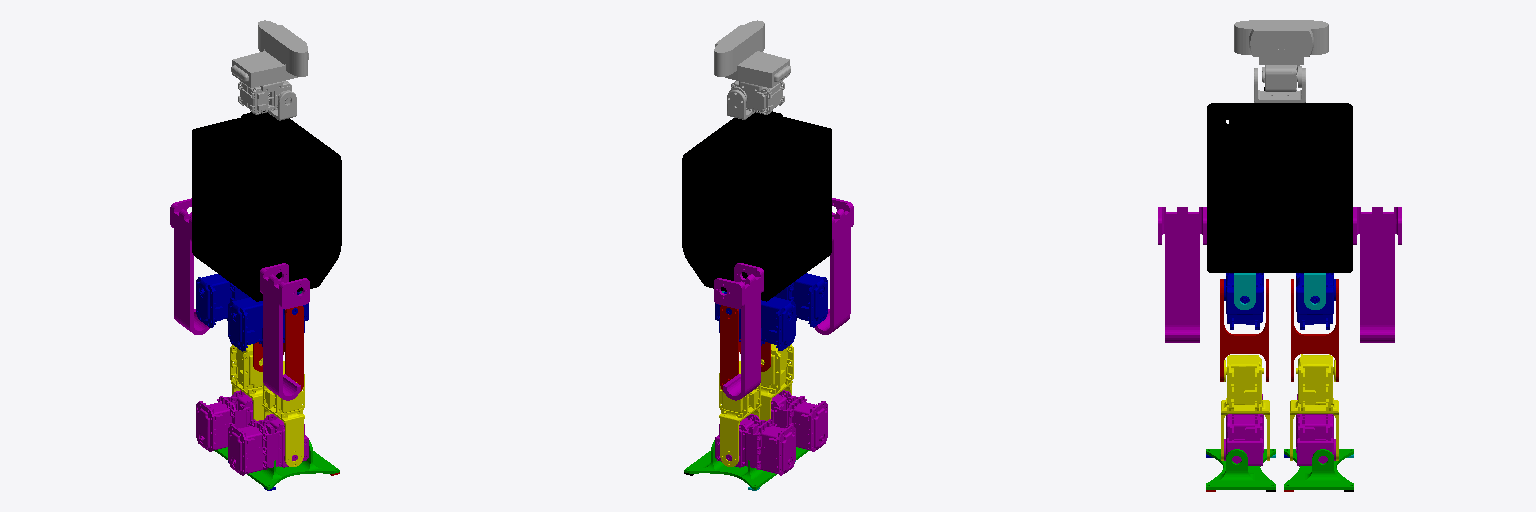
--- Facts derived from the render (not from the file) ---
The picture shows the robot from 3 angles, left to right: view 1: azimuth 30°, elevation 25°; view 2: azimuth 150°, elevation 25°; view 3: azimuth 270°, elevation 25°; orthographic projection.
Model soccerbot with 29 links and 28 joints (18 revolute, 10 fixed), rooted at /torso, posed every joint at zero.
Links seen in each view (by area): view 1: /torso, /head, /right_forearm, /right_ankle, /left_forearm, /left_ankle, /right_calve, /right_hip_front, /left_hip_front, /left_calve, /right_thigh, /right_foot; view 2: /torso, /head, /left_forearm, /left_ankle, /right_forearm, /right_ankle, /left_calve, /left_hip_front, /right_hip_front, /right_calve, /left_thigh, /left_foot (+1 smaller); view 3: /torso, /left_forearm, /right_forearm, /head, /left_calve, /right_calve, /left_foot, /right_foot, /left_ankle, /right_ankle, /right_thigh, /left_thigh (+5 smaller).
Boxes of the visible links, left/top/right/bottom form: /torso: left=192, top=111, right=341, bottom=301; /head: left=231, top=20, right=308, bottom=114; /right_forearm: left=260, top=263, right=309, bottom=400; /right_ankle: left=228, top=414, right=308, bottom=475; /left_forearm: left=170, top=198, right=209, bottom=334; /left_ankle: left=196, top=390, right=252, bottom=451; /right_calve: left=262, top=361, right=304, bottom=466; /right_hip_front: left=228, top=292, right=308, bottom=351; /left_hip_front: left=196, top=274, right=248, bottom=327; /left_calve: left=230, top=344, right=263, bottom=420; /right_thigh: left=283, top=306, right=303, bottom=391; /right_foot: left=247, top=440, right=339, bottom=489; /torso: left=682, top=111, right=831, bottom=301; /head: left=714, top=20, right=790, bottom=114; /left_forearm: left=714, top=263, right=763, bottom=400; /left_ankle: left=715, top=414, right=795, bottom=475; /right_forearm: left=814, top=198, right=853, bottom=334; /right_ankle: left=771, top=390, right=827, bottom=451; /left_calve: left=719, top=361, right=761, bottom=466; /left_hip_front: left=715, top=292, right=795, bottom=350; /right_hip_front: left=774, top=273, right=827, bottom=327; /right_calve: left=760, top=344, right=793, bottom=420; /left_thigh: left=720, top=305, right=740, bottom=391; /left_foot: left=684, top=440, right=776, bottom=489; /torso: left=1207, top=87, right=1352, bottom=272; /left_forearm: left=1353, top=207, right=1401, bottom=342; /right_forearm: left=1158, top=207, right=1206, bottom=342; /head: left=1234, top=20, right=1328, bottom=91; /left_calve: left=1290, top=354, right=1338, bottom=460; /right_calve: left=1221, top=355, right=1269, bottom=460; /left_foot: left=1284, top=449, right=1353, bottom=489; /right_foot: left=1206, top=449, right=1275, bottom=489; /left_ankle: left=1296, top=394, right=1335, bottom=465; /right_ankle: left=1224, top=394, right=1263, bottom=465; /right_thigh: left=1220, top=279, right=1268, bottom=381; /left_thigh: left=1291, top=279, right=1338, bottom=381.
Bounding box of the posed robot: 0.1143 × 0.243 × 0.5002 m (x, y, z).
17 mesh visuals loaded from 19 distinct referenced files (17 Collada DAE); not drawn: 2 (reference not matched to a file when rendering).

URDF robot description (soccerbot):
<?xml version="1.0" ?>
<!-- =================================================================================== -->
<!-- |    This document was autogenerated by xacro from models/soccerbot.xacro         | -->
<!-- |    EDITING THIS FILE BY HAND IS NOT RECOMMENDED                                 | -->
<!-- =================================================================================== -->
<robot name="soccerbot">
  <material name="white">
    <color rgba="1.0 1.0 1.0 1.0"/>
  </material>
  <material name="black">
    <color rgba="0.0 0.0 0.0 1.0"/>
  </material>
  <material name="silver">
    <color rgba="0.7 0.7 0.7 1.0"/>
  </material>
  <material name="yellow">
    <color rgba="0.9 0.9 0.0 1.0"/>
  </material>
  <material name="red">
    <color rgba="0.7 0.0 0.0 1.0"/>
  </material>
  <material name="green">
    <color rgba="0.0 0.7 0.0 1.0"/>
  </material>
  <material name="blue">
    <color rgba="0.0 0.0 0.7 1.0"/>
  </material>
  <material name="purple">
    <color rgba="0.7 0.0 0.7 1.0"/>
  </material>
  <material name="cyan">
    <color rgba="0.0 0.7 0.7 1.0"/>
  </material>
  <link name="/torso">
    <inertial>
      <mass value="1.529"/>
      <origin rpy="0 0 0" xyz="0.0082498 -0.0017440 -0.0522479"/>
      <inertia ixx="4.323e-3" ixy="5.549e-6" ixz="3.960e-5" iyy="5.198e-3" iyz="-1.509e-5" izz="3.567e-3"/>
    </inertial>
    <collision name="collision">
      <origin rpy="0 0 0" xyz="0 0 0"/>
      <geometry>
        <mesh filename="../meshes/torso.dae" scale="1 1 1"/>
      </geometry>
    </collision>
    <visual name="visual">
      <origin rpy="0 0 0" xyz="0 0 0"/>
      <geometry>
        <mesh filename="../meshes/torso.dae" scale="1 1 1"/>
      </geometry>
      <material name="black"/>
    </visual>
  </link>
  <link name="/left_bicep">
    <inertial>
      <mass value="0.213e-3"/>
      <origin rpy="0  0  0" xyz="0.000 0.02579 -0.04955"/>
      <inertia ixx="2.824e-4" ixy="0.000" ixz="0.0" iyy="2.744e-4" iyz="1.165e-05" izz="2.433e-5"/>
    </inertial>
    <collision name="collision">
      <origin rpy="0  0  0" xyz="0 0.0025 0"/>
      <geometry>
        <mesh filename="../meshes/left_bicep.dae" scale="1 1 1"/>
      </geometry>
    </collision>
    <visual name="visual">
      <origin rpy="0  0  0" xyz="0  0  0"/>
      <geometry>
        <mesh filename="../meshes/left_bicep.dae" scale="1 1 1"/>
      </geometry>
      <material name="white"/>
    </visual>
  </link>
  <link name="/left_forearm">
    <inertial>
      <mass value="45.7e-3"/>
      <origin rpy="0  0  0" xyz="0 0.0245 -0.0546097"/>
      <inertia ixx="0.113e-3" ixy="0.000" ixz="1e-06" iyy="0.107e-3" iyz="0.0" izz="0.012e-3"/>
    </inertial>
    <collision name="collision">
      <origin rpy="0  0  0" xyz="-0.0055 0.005 0"/>
      <geometry>
        <mesh filename="../meshes/left_forearm.dae" scale="1 1 1"/>
      </geometry>
    </collision>
    <visual name="visual">
      <origin rpy="0  0  0" xyz="0  0  0"/>
      <geometry>
        <mesh filename="../meshes/left_forearm.dae" scale="1 1 1"/>
      </geometry>
      <material name="purple"/>
    </visual>
  </link>
  <joint name="left_arm_motor_0" type="revolute">
    <parent link="/torso"/>
    <child link="/left_bicep"/>
    <origin rpy="0 0 0" xyz="-0.0157 0.0725 0"/>
    <axis xyz="0 -1 0"/>
    <dynamics damping="0.01" friction="0.1"/>
    <limit effort="1.5" lower="-1.5707963267948966" upper="3.9269908169872414" velocity="1"/>
  </joint>
  <joint name="left_arm_motor_1" type="revolute">
    <parent link="/left_bicep"/>
    <child link="/left_forearm"/>
    <origin rpy="0 0 0" xyz="0 0 -0.10"/>
    <axis xyz="0 -1 0"/>
    <dynamics damping="0.01" friction="0.1"/>
    <limit effort="1.5" lower="0" upper="3.141592653589793" velocity="1"/>
  </joint>
  <link name="/right_bicep">
    <inertial>
      <mass value="0.213e-3"/>
      <origin rpy="0  0  0" xyz="0.000 -0.02579 -0.04955"/>
      <inertia ixx="2.824e-4" ixy="0.000" ixz="-0.0" iyy="2.744e-4" iyz="-1.165e-05" izz="2.433e-5"/>
    </inertial>
    <collision name="collision">
      <origin rpy="0  0  0" xyz="0 -0.0025 0"/>
      <geometry>
        <mesh filename="../meshes/right_bicep.dae" scale="1 1 1"/>
      </geometry>
    </collision>
    <visual name="visual">
      <origin rpy="0  0  0" xyz="0  0  0"/>
      <geometry>
        <mesh filename="../meshes/right_bicep.dae" scale="1 1 1"/>
      </geometry>
      <material name="white"/>
    </visual>
  </link>
  <link name="/right_forearm">
    <inertial>
      <mass value="45.7e-3"/>
      <origin rpy="0  0  0" xyz="0 -0.0245 -0.0546097"/>
      <inertia ixx="0.113e-3" ixy="0.000" ixz="-1e-06" iyy="0.107e-3" iyz="-0.0" izz="0.012e-3"/>
    </inertial>
    <collision name="collision">
      <origin rpy="0  0  0" xyz="-0.0055 -0.005 0"/>
      <geometry>
        <mesh filename="../meshes/right_forearm.dae" scale="1 1 1"/>
      </geometry>
    </collision>
    <visual name="visual">
      <origin rpy="0  0  0" xyz="0  0  0"/>
      <geometry>
        <mesh filename="../meshes/right_forearm.dae" scale="1 1 1"/>
      </geometry>
      <material name="purple"/>
    </visual>
  </link>
  <joint name="right_arm_motor_0" type="revolute">
    <parent link="/torso"/>
    <child link="/right_bicep"/>
    <origin rpy="0 0 0" xyz="-0.0157 -0.0725 0"/>
    <axis xyz="0 -1 0"/>
    <dynamics damping="0.01" friction="0.1"/>
    <limit effort="1.5" lower="-1.5707963267948966" upper="3.9269908169872414" velocity="1"/>
  </joint>
  <joint name="right_arm_motor_1" type="revolute">
    <parent link="/right_bicep"/>
    <child link="/right_forearm"/>
    <origin rpy="0 0 0" xyz="0 0 -0.10"/>
    <axis xyz="0 -1 0"/>
    <dynamics damping="0.01" friction="0.1"/>
    <limit effort="1.5" lower="0" upper="3.141592653589793" velocity="1"/>
  </joint>
  <link name="/left_hip_side">
    <inertial>
      <mass value="9.364e-3"/>
      <origin rpy="0  0  0" xyz="0.0003695 0.0000 0.01689"/>
      <inertia ixx="0.002e-3" ixy="0.000" ixz="0.000" iyy="0.005e-3" iyz="0.000" izz="0.004e-3"/>
    </inertial>
    <collision name="collision">
      <origin rpy="0  0  0" xyz="0 0.0 0.03"/>
        <geometry>
            <box size="0.0485 0.022 0.00005"/>
        </geometry>
    </collision>
    <visual name="visual">
      <origin rpy="0  0  0" xyz="0  0  0"/>
      <geometry>
        <mesh filename="../meshes/left_hip_side.dae" scale="1 1 1"/>
      </geometry>
      <material name="cyan"/>
    </visual>
  </link>
  <link name="/left_hip_front">
    <inertial>
      <mass value="153.186e-3"/>
      <origin rpy="0 0 0" xyz="-0.02093 0 -0.011313"/>
      <inertia ixx="0.041e-3" ixy="0.000" ixz="-0.002e-3" iyy="0.118e-3" iyz="0.000" izz="0.106e-3"/>
    </inertial>
    <collision name="collision">
      <origin rpy="0 0 0" xyz="-0.02187 0.0 -0.01332"/>
      <geometry>
        <box size="0.083747 0.04885 0.0506"/>
      </geometry>
    </collision>
    <visual name="visual">
      <origin rpy="0  0  0" xyz="0  0  0"/>
      <geometry>
        <mesh filename="../meshes/left_hip_front.dae" scale="1 1 1"/>
      </geometry>
      <material name="blue"/>
    </visual>
  </link>
  <link name="/left_thigh">
    <inertial>
      <mass value="21.438e-3"/>
      <origin rpy="0 0 0" xyz="0.0019422 0.0001419 -0.0469409"/>
      <inertia ixx="0.025e-3" ixy="2e-06" ixz="0.000" iyy="0.016e-3" iyz="0.000" izz="0.010e-3"/>
    </inertial>
    <collision name="collision">
      <origin rpy="0 0 0" xyz="0 0 -0.0445"/>
      <geometry>
        <box size="0.022 0.048 0.111"/>
      </geometry>
    </collision>
    <visual name="visual">
      <origin rpy="0  0  0" xyz="0  0  0"/>
      <geometry>
        <mesh filename="../meshes/left_thigh.dae" scale="1 1 1"/>
      </geometry>
      <material name="red"/>
    </visual>
  </link>
  <link name="/left_calve">
    <inertial>
      <mass value="86.547e-3"/>
      <origin rpy="0  0  0" xyz="0 -3.259e-07 -0.0150123e-3"/>
      <inertia ixx="0.054e-3" ixy="0.000" ixz="0.000" iyy="0.046e-3" iyz="-0.001e-3" izz="0.019e-3"/>
    </inertial>
    <collision name="collision">
      <origin rpy="0 0 0" xyz="0 0 -0.03385"/>
      <geometry>
        <box size="0.031883 0.048 0.105683"/>
      </geometry>
    </collision>
    <visual name="visual">
      <origin rpy="0 0 0" xyz="0 0 -0.0865"/>
      <geometry>
        <mesh filename="../meshes/left_calve.dae" scale="1 1 1"/>
      </geometry>
      <material name="yellow"/>
    </visual>
  </link>
  <link name="/left_ankle">
    <inertial>
      <mass value="153.186e-3"/>
      <origin rpy="0 0 0" xyz="-0.020939e-3 0.000 0.011313e-3"/>
      <inertia ixx="0.041e-3" ixy="0.000" ixz="0.002e-3" iyy="0.118e-3" iyz="0.000" izz="0.106e-3"/>
    </inertial>
    <collision name="collision">
      <origin rpy="0 0 0" xyz="-0.02014 0.0 0.01031"/>
      <geometry>
        <box size="0.090769 0.042 0.0506"/>
      </geometry>
    </collision>
    <visual name="visual">
      <origin rpy="0 0 0" xyz="0  0  0"/>
      <geometry>
        <mesh filename="../meshes/left_ankle.dae" scale="1 1 1"/>
      </geometry>
      <material name="purple"/>
    </visual>
  </link>
  <link name="/left_foot">
    <inertial>
      <mass value="23.216e-3"/>
      <origin rpy="0 0 0" xyz="-0.020939 0.0 0.011313"/>
      <inertia ixx="0.006e-3" ixy="0.000" ixz="0.000" iyy="0.018e-3" iyz="0.000" izz="0.022e-3"/>
    </inertial>
    <collision name="collision">
      <origin rpy="0 0 0" xyz="0.00225 0.00401 -0.0205 "/>
      <geometry>
        <box size="0.09 0.07 0.003"/>
      </geometry>
      <contact_coefficients mu="100.0"/>
    </collision>
    <visual name="visual">
      <origin rpy="0  0  0" xyz="0  0.00802  0"/>
      <geometry>
        <mesh filename="../meshes/left_foot.dae" scale="1 1 1"/>
      </geometry>
      <material name="green"/>
    </visual>
  </link>
  <link name="/left_foot_cleat_4">
    <inertial>
      <mass value="5e-3"/>
      <origin rpy="0 0 0" xyz="-0.020939 0.0 0.011313"/>
      <inertia ixx="0" ixy="0.000" ixz="0.000" iyy="0" iyz="0.000" izz="0"/>
    </inertial>
    <collision name="collision">
      <origin rpy="0 0 0" xyz="0.04225 0.034 -0.023"/>
      <geometry>
        <box size="0.01 0.01 0.002"/>
      </geometry>
      <contact_coefficients mu="100.0"/>
    </collision>
    <visual name="visual">
      <origin rpy="0 0 0" xyz="0.04225 0.034 -0.023"/>
      <geometry>
        <box size="0.01 0.01 0.002"/>
      </geometry>
      <material name="black"/>
    </visual>
  </link>
  <link name="/left_foot_cleat_5">
    <inertial>
      <mass value="5e-3"/>
      <origin rpy="0 0 0" xyz="-0.020939 0.0 0.011313"/>
      <inertia ixx="0" ixy="0.000" ixz="0.000" iyy="0" iyz="0.000" izz="0"/>
    </inertial>
    <collision name="collision">
      <origin rpy="0 0 0" xyz="0.04225 -0.026 -0.023"/>
      <geometry>
        <box size="0.01 0.01 0.002"/>
      </geometry>
      <contact_coefficients mu="100.0"/>
    </collision>
    <visual name="visual">
      <origin rpy="0 0 0" xyz="0.04225 -0.026 -0.023"/>
      <geometry>
        <box size="0.01 0.01 0.002"/>
      </geometry>
      <material name="red"/>
    </visual>
  </link>
  <link name="/left_foot_cleat_6">
    <inertial>
      <mass value="5e-3"/>
      <origin rpy="0 0 0" xyz="-0.020939 0.0 0.011313"/>
      <inertia ixx="0" ixy="0.000" ixz="0.000" iyy="0" iyz="0.000" izz="0"/>
    </inertial>
    <collision name="collision">
      <origin rpy="0 0 0" xyz="-0.03750 0.034 -0.023"/>
      <geometry>
        <box size="0.01 0.01 0.002"/>
      </geometry>
      <contact_coefficients mu="100.0"/>
    </collision>
    <visual name="visual">
      <origin rpy="0 0 0" xyz="-0.03750 0.034 -0.023"/>
      <geometry>
        <box size="0.01 0.01 0.002"/>
      </geometry>
      <material name="cyan"/>
    </visual>
  </link>
  <link name="/left_foot_cleat_7">
    <inertial>
      <mass value="5e-3"/>
      <origin rpy="0 0 0" xyz="-0.020939 0.0 0.011313"/>
      <inertia ixx="0" ixy="0.000" ixz="0.000" iyy="0" iyz="0.000" izz="0"/>
    </inertial>
    <collision name="collision">
      <origin rpy="0 0 0" xyz="-0.0375 -0.026 -0.023"/>
      <geometry>
        <box size="0.01 0.01 0.002"/>
      </geometry>
      <contact_coefficients mu="100.0"/>
    </collision>
    <visual name="visual">
      <origin rpy="0 0 0" xyz="-0.0375 -0.026 -0.023"/>
      <geometry>
        <box size="0.01 0.01 0.002"/>
      </geometry>
      <material name="blue"/>
    </visual>
  </link>
  <joint name="left_leg_motor_0" type="revolute">
    <parent link="/torso"/>
    <child link="/left_hip_side"/>
    <origin rpy="0 0 0" xyz="0.0135 0.035 -0.156"/>
    <axis xyz="0 0 -1"/>
    <dynamics damping="0.01" friction="0.1"/>
    <limit effort="2.5" lower="-1.309" upper="0.524" velocity="1"/>
  </joint>
  <joint name="left_leg_motor_1" type="revolute">
    <parent link="/left_hip_side"/>
    <child link="/left_hip_front"/>
    <origin rpy="0 0 0" xyz="0 0 0"/>
    <axis xyz="1 0 0"/>
    <dynamics damping="0.01" friction="0.1"/>
    <limit effort="2.5" lower="-0.7853981633974483" upper="1.5707963267948966" velocity="1"/>
  </joint>
  <joint name="left_leg_motor_2" type="revolute">
    <parent link="/left_hip_front"/>
    <child link="/left_thigh"/>
    <origin rpy="0 0 0" xyz="0 0 0"/>
    <axis xyz="0 -1 0"/>
    <dynamics damping="0.01" friction="0.1"/>
    <limit effort="2.5" lower="-0.7853981633974483" upper="2.356194490192345" velocity="1"/>
  </joint>
  <joint name="left_leg_motor_3" type="revolute">
    <parent link="/left_thigh"/>
    <child link="/left_calve"/>
    <origin rpy="0 0 0" xyz="0 0 -0.08900"/>
    <axis xyz="0 -1 0"/>
    <dynamics damping="0.01" friction="0.1"/>
    <limit effort="2.5" lower="-2.793" upper="0" velocity="1"/>
  </joint>
  <joint name="left_leg_motor_4" type="revolute">
    <parent link="/left_calve"/>
    <child link="/left_ankle"/>
    <origin rpy="0 0 0" xyz="0 0 -0.0865"/>
    <axis xyz="0 -1 0"/>
    <dynamics damping="0.01" friction="0.1"/>
    <limit effort="2.5" lower="-0.7853981633974483" upper="1.5707963267948966" velocity="1"/>
  </joint>
  <joint name="left_leg_motor_5" type="revolute">
    <parent link="/left_ankle"/>
    <child link="/left_foot"/>
    <origin rpy="0 0 0" xyz="0 0 0"/>
    <axis xyz="1 0 0"/>
    <dynamics damping="0.01" friction="0.1"/>
    <limit effort="2.5" lower="-0.7853981633974483" upper="0.7853981633974483" velocity="1"/>
  </joint>
  <joint name="/left_foot_cleat_4" type="fixed">
    <parent link="/left_foot"/>
    <child link="/left_foot_cleat_4"/>
    <origin rpy="0 0 0" xyz="0.0 0 0.0"/>
    <axis xyz="0 0 0"/>
  </joint>
  <joint name="/left_foot_cleat_5" type="fixed">
    <parent link="/left_foot"/>
    <child link="/left_foot_cleat_5"/>
    <origin rpy="0 0 0" xyz="0.0 0 0.0"/>
    <axis xyz="0 0 0"/>
  </joint>
  <joint name="/left_foot_cleat_6" type="fixed">
    <parent link="/left_foot"/>
    <child link="/left_foot_cleat_6"/>
    <origin rpy="0 0 0" xyz="0.0 0 0.0"/>
    <axis xyz="0 0 0"/>
  </joint>
  <joint name="/left_foot_cleat_7" type="fixed">
    <parent link="/left_foot"/>
    <child link="/left_foot_cleat_7"/>
    <origin rpy="0 0 0" xyz="0.0 0 0.0"/>
    <axis xyz="0 0 0"/>
  </joint>
  <link name="/right_hip_side">
    <inertial>
      <mass value="9.364e-3"/>
      <origin rpy="0  0  0" xyz="0.0003695 0.0000 0.01689"/>
      <inertia ixx="0.002e-3" ixy="0.000" ixz="0.000" iyy="0.005e-3" iyz="0.000" izz="0.004e-3"/>
    </inertial>
    <collision name="collision">
      <origin rpy="0  0  0" xyz="0 0 0.03"/>
        <geometry>
            <box size="0.0485 0.022 0.00005"/>
        </geometry>
    </collision>
    <visual name="visual">
      <origin rpy="0  0  0" xyz="0  0  0"/>
      <geometry>
        <mesh filename="../meshes/right_hip_side.dae" scale="1 1 1"/>
      </geometry>
      <material name="cyan"/>
    </visual>
  </link>
  <link name="/right_hip_front">
    <inertial>
      <mass value="153.186e-3"/>
      <origin rpy="0 0 0" xyz="-0.02093 0 -0.011313"/>
      <inertia ixx="0.041e-3" ixy="0.000" ixz="-0.002e-3" iyy="0.118e-3" iyz="0.000" izz="0.106e-3"/>
    </inertial>
    <collision name="collision">
      <origin rpy="0 0 0" xyz="-0.02187 0 -0.01332"/>
      <geometry>
        <box size="0.083747 0.04885 0.0506"/>
      </geometry>
    </collision>
    <visual name="visual">
      <origin rpy="0  0  0" xyz="0  0  0"/>
      <geometry>
        <mesh filename="../meshes/right_hip_front.dae" scale="1 1 1"/>
      </geometry>
      <material name="blue"/>
    </visual>
  </link>
  <link name="/right_thigh">
    <inertial>
      <mass value="21.438e-3"/>
      <origin rpy="0 0 0" xyz="0.0019422 -0.0001419 -0.0469409"/>
      <inertia ixx="0.025e-3" ixy="-2e-06" ixz="0.000" iyy="0.016e-3" iyz="0.000" izz="0.010e-3"/>
    </inertial>
    <collision name="collision">
      <origin rpy="0 0 0" xyz="0 0 -0.0445"/>
      <geometry>
        <box size="0.022 0.048 0.111"/>
      </geometry>
    </collision>
    <visual name="visual">
      <origin rpy="0  0  0" xyz="0  0  0"/>
      <geometry>
        <mesh filename="../meshes/right_thigh.dae" scale="1 1 1"/>
      </geometry>
      <material name="red"/>
    </visual>
  </link>
  <link name="/right_calve">
    <inertial>
      <mass value="86.547e-3"/>
      <origin rpy="0  0  0" xyz="0 3.259e-07 -0.0150123e-3"/>
      <inertia ixx="0.054e-3" ixy="0.000" ixz="0.000" iyy="0.046e-3" iyz="-0.001e-3" izz="0.019e-3"/>
    </inertial>
    <collision name="collision">
      <origin rpy="0 0 0" xyz="0 0 -0.03385"/>
      <geometry>
        <box size="0.031883 0.048 0.105683"/>
      </geometry>
    </collision>
    <visual name="visual">
      <origin rpy="0 0 0" xyz="0 0 -0.0865"/>
      <geometry>
        <mesh filename="../meshes/right_calve.dae" scale="1 1 1"/>
      </geometry>
      <material name="yellow"/>
    </visual>
  </link>
  <link name="/right_ankle">
    <inertial>
      <mass value="153.186e-3"/>
      <origin rpy="0 0 0" xyz="-0.020939e-3 0.000 0.011313e-3"/>
      <inertia ixx="0.041e-3" ixy="0.000" ixz="0.002e-3" iyy="0.118e-3" iyz="0.000" izz="0.106e-3"/>
    </inertial>
    <collision name="collision">
      <origin rpy="0 0 0" xyz="-0.02014 0 0.01031"/>
      <geometry>
        <box size="0.090769 0.042 0.0506"/>
      </geometry>
    </collision>
    <visual name="visual">
      <origin rpy="0 0 0" xyz="0  0  0"/>
      <geometry>
        <mesh filename="../meshes/right_ankle.dae" scale="1 1 1"/>
      </geometry>
      <material name="purple"/>
    </visual>
  </link>
  <link name="/right_foot">
    <inertial>
      <mass value="23.216e-3"/>
      <origin rpy="0 0 0" xyz="-0.020939 0.0 0.011313"/>
      <inertia ixx="0.006e-3" ixy="0.000" ixz="0.000" iyy="0.018e-3" iyz="0.000" izz="0.022e-3"/>
    </inertial>
    <collision name="collision">
      <origin rpy="0 0 0" xyz="0.00225 -0.00401 -0.0205 "/>
      <geometry>
        <box size="0.09 0.07 0.003"/>
      </geometry>
      <contact_coefficients mu="100.0"/>
    </collision>
    <visual name="visual">
      <origin rpy="0  0  0" xyz="0  -0.00802  0"/>
      <geometry>
        <mesh filename="../meshes/right_foot.dae" scale="1 1 1"/>
      </geometry>
      <material name="green"/>
    </visual>
  </link>
  <link name="/right_foot_cleat_0">
    <inertial>
      <mass value="5e-3"/>
      <origin rpy="0 0 0" xyz="-0.020939 0.0 0.011313"/>
      <inertia ixx="0" ixy="0.000" ixz="0.000" iyy="0" iyz="0.000" izz="0"/>
    </inertial>
    <collision name="collision">
      <origin rpy="0 0 0" xyz="0.04225 0.026 -0.023"/>
      <geometry>
        <box size="0.01 0.01 0.002"/>
      </geometry>
      <contact_coefficients mu="100.0"/>
    </collision>
    <visual name="visual">
      <origin rpy="0 0 0" xyz="0.04225 0.026 -0.023"/>
      <geometry>
        <box size="0.01 0.01 0.002"/>
      </geometry>
      <material name="black"/>
    </visual>
  </link>
  <link name="/right_foot_cleat_1">
    <inertial>
      <mass value="5e-3"/>
      <origin rpy="0 0 0" xyz="-0.020939 0.0 0.011313"/>
      <inertia ixx="0" ixy="0.000" ixz="0.000" iyy="0" iyz="0.000" izz="0"/>
    </inertial>
    <collision name="collision">
      <origin rpy="0 0 0" xyz="0.04225 -0.034 -0.023"/>
      <geometry>
        <box size="0.01 0.01 0.002"/>
      </geometry>
      <contact_coefficients mu="100.0"/>
    </collision>
    <visual name="visual">
      <origin rpy="0 0 0" xyz="0.04225 -0.034 -0.023"/>
      <geometry>
        <box size="0.01 0.01 0.002"/>
      </geometry>
      <material name="red"/>
    </visual>
  </link>
  <link name="/right_foot_cleat_2">
    <inertial>
      <mass value="5e-3"/>
      <origin rpy="0 0 0" xyz="-0.020939 0.0 0.011313"/>
      <inertia ixx="0" ixy="0.000" ixz="0.000" iyy="0" iyz="0.000" izz="0"/>
    </inertial>
    <collision name="collision">
      <origin rpy="0 0 0" xyz="-0.0375 0.026 -0.023"/>
      <geometry>
        <box size="0.01 0.01 0.002"/>
      </geometry>
      <contact_coefficients mu="100.0"/>
    </collision>
    <visual name="visual">
      <origin rpy="0 0 0" xyz="-0.0375 0.026 -0.023"/>
      <geometry>
        <box size="0.01 0.01 0.002"/>
      </geometry>
      <material name="cyan"/>
    </visual>
  </link>
  <link name="/right_foot_cleat_3">
    <inertial>
      <mass value="5e-3"/>
      <origin rpy="0 0 0" xyz="-0.020939 0.0 0.011313"/>
      <inertia ixx="0" ixy="0.000" ixz="0.000" iyy="0" iyz="0.000" izz="0"/>
    </inertial>
    <collision name="collision">
      <origin rpy="0 0 0" xyz="-0.0375 -0.034 -0.023"/>
      <geometry>
        <box size="0.01 0.01 0.002"/>
      </geometry>
      <contact_coefficients mu="100.0"/>
    </collision>
    <visual name="visual">
      <origin rpy="0 0 0" xyz="-0.0375 -0.034 -0.023"/>
      <geometry>
        <box size="0.01 0.01 0.002"/>
      </geometry>
      <material name="blue"/>
    </visual>
  </link>
  <joint name="right_leg_motor_0" type="revolute">
    <parent link="/torso"/>
    <child link="/right_hip_side"/>
    <origin rpy="0 0 0" xyz="0.0135 -0.035 -0.156"/>
    <axis xyz="0 0 1"/>
    <dynamics damping="0.01" friction="0.1"/>
    <limit effort="2.5" lower="-1.309" upper="0.524" velocity="1"/>
  </joint>
  <joint name="right_leg_motor_1" type="revolute">
    <parent link="/right_hip_side"/>
    <child link="/right_hip_front"/>
    <origin rpy="0 0 0" xyz="0 0 0"/>
    <axis xyz="-1 0 0"/>
    <dynamics damping="0.01" friction="0.1"/>
    <limit effort="2.5" lower="-0.7853981633974483" upper="1.5707963267948966" velocity="1"/>
  </joint>
  <joint name="right_leg_motor_2" type="revolute">
    <parent link="/right_hip_front"/>
    <child link="/right_thigh"/>
    <origin rpy="0 0 0" xyz="0 0 0"/>
    <axis xyz="0 -1 0"/>
    <dynamics damping="0.01" friction="0.1"/>
    <limit effort="2.5" lower="-0.7853981633974483" upper="2.356194490192345" velocity="1"/>
  </joint>
  <joint name="right_leg_motor_3" type="revolute">
    <parent link="/right_thigh"/>
    <child link="/right_calve"/>
    <origin rpy="0 0 0" xyz="0 0 -0.089"/>
    <axis xyz="0 -1 0"/>
    <dynamics damping="0.01" friction="0.1"/>
    <limit effort="2.5" lower="-2.793" upper="0" velocity="1"/>
  </joint>
  <joint name="right_leg_motor_4" type="revolute">
    <parent link="/right_calve"/>
    <child link="/right_ankle"/>
    <origin rpy="0 0 0" xyz="0 0 -0.0865"/>
    <axis xyz="0 -1 0"/>
    <dynamics damping="0.01" friction="0.1"/>
    <limit effort="2.5" lower="-0.7853981633974483" upper="1.5707963267948966" velocity="1"/>
  </joint>
  <joint name="right_leg_motor_5" type="revolute">
    <parent link="/right_ankle"/>
    <child link="/right_foot"/>
    <origin rpy="0 0 0" xyz="0 0 0"/>
    <axis xyz="-1 0 0"/>
    <dynamics damping="0.01" friction="0.1"/>
    <limit effort="2.5" lower="-0.7853981633974483" upper="0.7853981633974483" velocity="1"/>
  </joint>
  <joint name="right_foot_cleat_0" type="fixed">
    <parent link="/right_foot"/>
    <child link="/right_foot_cleat_0"/>
    <origin rpy="0 0 0" xyz="0.0 0 0.0"/>
    <axis xyz="0 0 0"/>
  </joint>
  <joint name="right_foot_cleat_1" type="fixed">
    <parent link="/right_foot"/>
    <child link="/right_foot_cleat_1"/>
    <origin rpy="0 0 0" xyz="0.0 0 0.0"/>
    <axis xyz="0 0 0"/>
  </joint>
  <joint name="right_foot_cleat_2" type="fixed">
    <parent link="/right_foot"/>
    <child link="/right_foot_cleat_2"/>
    <origin rpy="0 0 0" xyz="0.0 0 0.0"/>
    <axis xyz="0 0 0"/>
  </joint>
  <joint name="right_foot_cleat_3" type="fixed">
    <parent link="/right_foot"/>
    <child link="/right_foot_cleat_3"/>
    <origin rpy="0 0 0" xyz="0.0 0 0.0"/>
    <axis xyz="0 0 0"/>
  </joint>
  <link name="/neck">
    <inertial>
      <mass value="0.011294"/>
      <origin rpy="0  0  0" xyz="0 -0.0006476 0.0092453"/>
      <inertia ixx="5.489e-6" ixy="0" ixz="0" iyy="1.433e-6" iyz="0" izz="4.955e-6"/>
    </inertial>
    <collision name="collision">
      <origin rpy="0  0  0" xyz="0 0 0.0165"/>
      <geometry>
        <mesh filename="../meshes/neck.dae" scale="1 1 1"/>
      </geometry>
    </collision>
    <visual name="visual">
      <origin rpy="0  0  0" xyz="0  0  0"/>
      <geometry>
        <mesh filename="../meshes/neck.dae" scale="1 1 1"/>
      </geometry>
      <material name="silver"/>
    </visual>
  </link>
  <link name="/head">
    <inertial>
      <mass value="0.282"/>
      <origin rpy="0  0  0" xyz="0.0237166 0.0018096 0.0255966"/>
      <inertia ixx="2.06e-4" ixy="1.06e-6" ixz="-5.73e-5" iyy="2.057e-4" iyz="2.534e-6" izz="1.603e-4"/>
    </inertial>
    <collision name="collision">
      <origin rpy="0  0  0" xyz="-0.013 0 0.025"/>
      <geometry>
        <mesh filename="../meshes/head.dae" scale="1 1 1"/>
      </geometry>
    </collision>
    <visual name="visual">
      <origin rpy="0  0  0" xyz="0  0  0"/>
      <geometry>
        <mesh filename="../meshes/head.dae" scale="1 1 1"/>
      </geometry>
      <material name="silver"/>
    </visual>
  </link>
  <joint name="head_motor_0" type="revolute">
    <parent link="/torso"/>
    <child link="/neck"/>
    <origin rpy="0 0 0" xyz="0.024 0 0.05875"/>
    <axis xyz="0 0 1"/>
    <dynamics damping="0.01" friction="0.1"/>
    <limit effort="1.5" lower="-1.5707963267948966" upper="1.5707963267948966" velocity="1"/>
  </joint>
  <joint name="head_motor_1" type="revolute">
    <parent link="/neck"/>
    <child link="/head"/>
    <origin rpy="0 0 0" xyz="0 0 0.024"/>
    <axis xyz="0 1 0"/>
    <dynamics damping="0.01" friction="0.1"/>
    <limit effort="1.5" lower="-2.356194490192345" upper="2.356194490192345" velocity="1"/>
  </joint>
  <link name="/imu_link">
    <inertial>
      <mass value="0.01"/>
      <origin rpy="0  0  0" xyz="0 0 0"/>
      <inertia ixx="1e-9" ixy="0" ixz="0" iyy="1e-9" iyz="0" izz="1e-9"/>
    </inertial>
  </link>
  <joint name="/torso_imu" type="fixed">
    <parent link="/torso"/>
    <child link="/imu_link"/>
    <origin rpy="0 0 0" xyz="0.0 0 0.000"/>
    <axis xyz="0 0 0"/>
  </joint>
  <link name="/camera">
    <inertial>
      <mass value="0.01"/>
      <origin rpy="0  0  0" xyz="0 0 0"/>
      <inertia ixx="1e-9" ixy="0" ixz="0" iyy="1e-9" iyz="0" izz="1e-9"/>
    </inertial>
  </link>
  <joint name="/head_camera" type="fixed">
    <parent link="/head"/>
    <child link="/camera"/>
    <origin rpy="0 0 0" xyz="0.015 0.00145 0.04740"/>
    <axis xyz="0  0  0"/>
    <dynamics damping="0.01" friction="0.1"/>
    <limit effort="0" lower="0" upper="0" velocity="0"/>
  </joint>
</robot>
